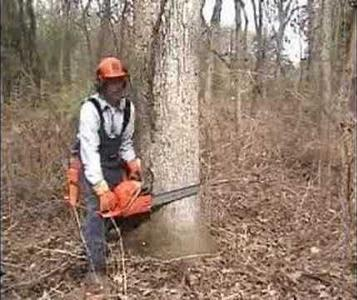person: (65, 56, 144, 283)
